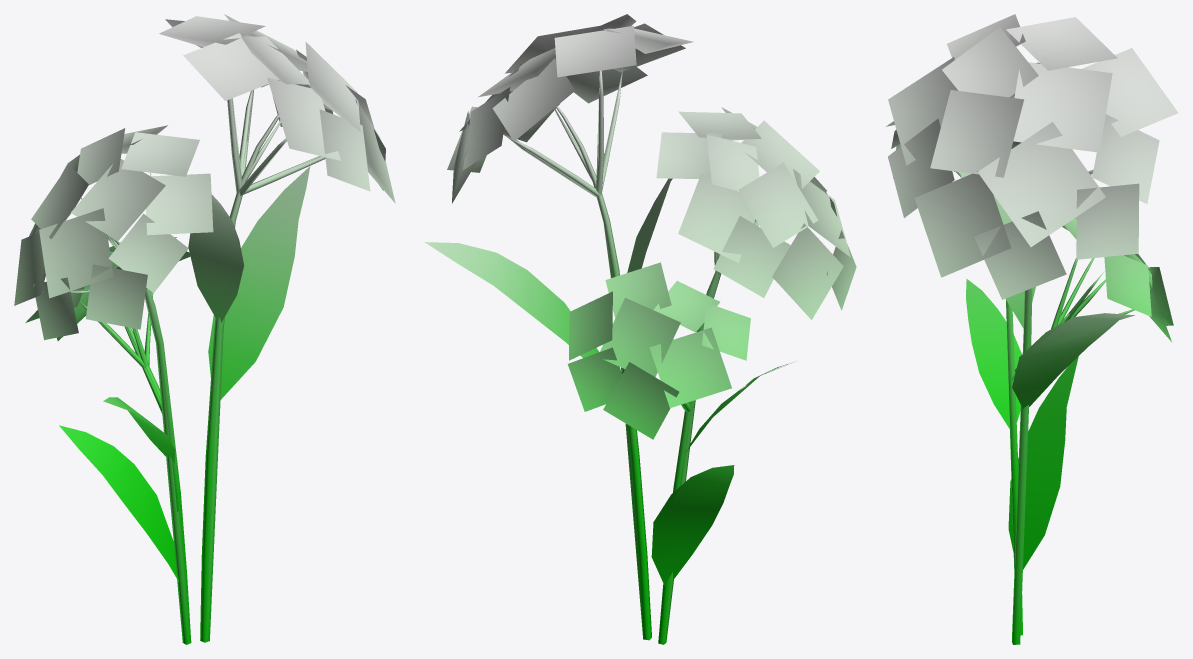
Rendered from Flower_3.fbx.
3 views of the same model, side by side, from view 1: azimuth 30°, elevation 25°; view 2: azimuth 150°, elevation 25°; view 3: azimuth 270°, elevation 25° (orthographic). The views are drawn at different scales.
Visible parts, largest first — view 1: Flower_3_LOD0, Flower_3; view 2: Flower_3_LOD0, Flower_3; view 3: Flower_3_LOD0, Flower_3.
Boxes of the visible parts, x1,y1,x2,y2 form: Flower_3_LOD0: (14,14,395,644); Flower_3: (25,14,394,642); Flower_3_LOD0: (452,25,856,644); Flower_3: (424,14,837,644); Flower_3_LOD0: (887,14,1178,644); Flower_3: (886,42,1173,635).
Size of the model in its own units: 50.44 by 81.84 by 34.48.
